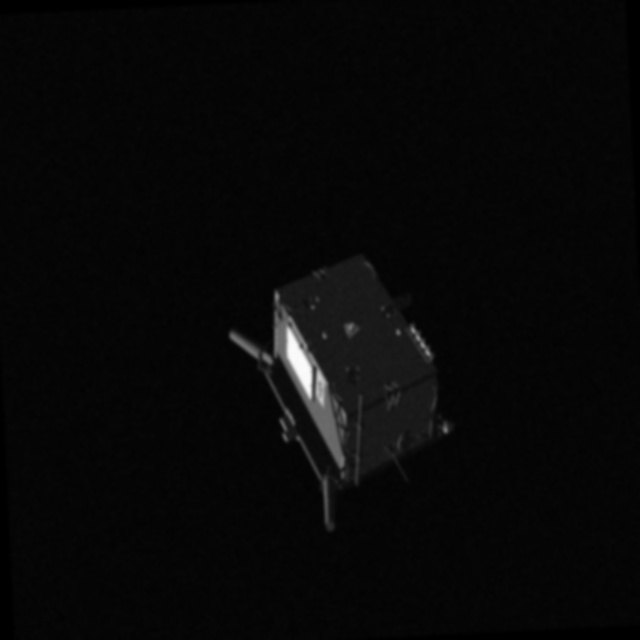satellite: (219, 246, 466, 536)
